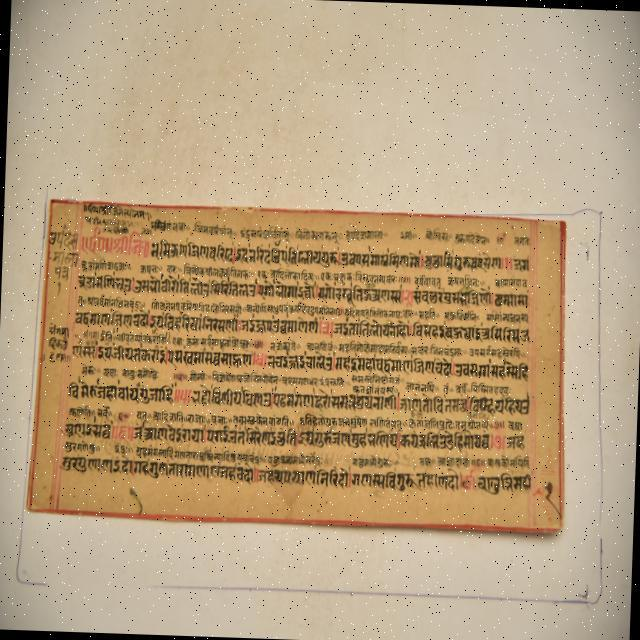text_paragraph: (22, 196, 565, 533)
